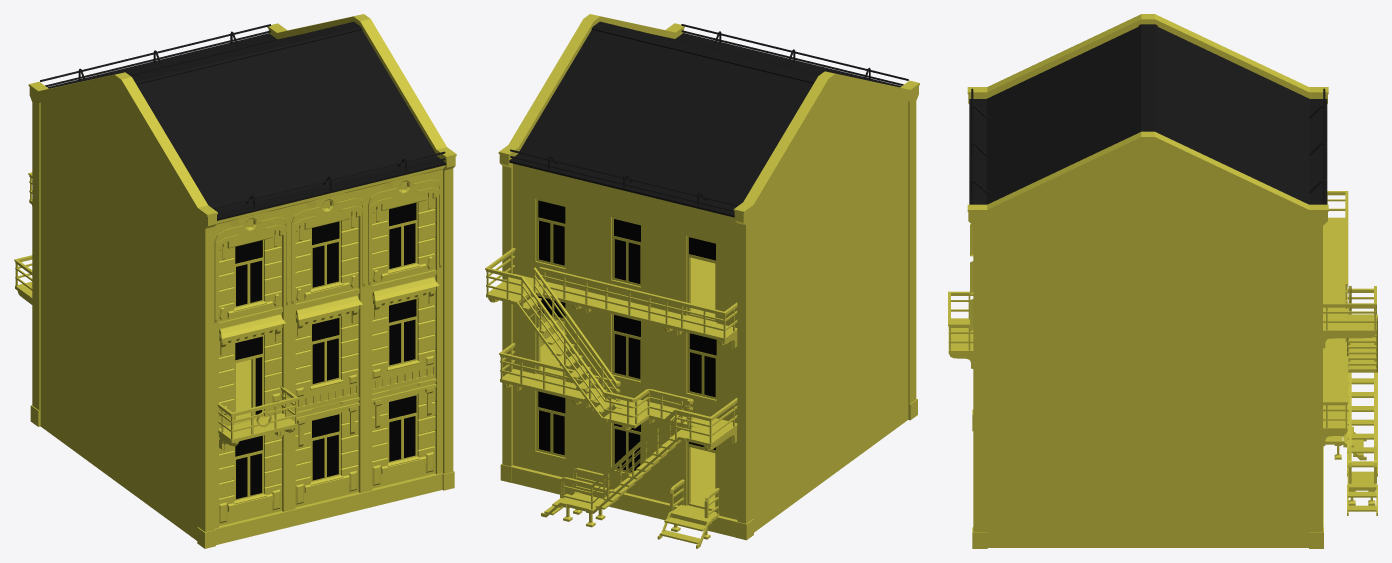
Rendered from SM_eighth_house.fbx.
3 renders of one model, left to right at view 1: azimuth 30°, elevation 25°; view 2: azimuth 150°, elevation 25°; view 3: azimuth 270°, elevation 25°, orthographic. The views are drawn at different scales.
Parts seen in each view (by area): view 1: Cylinder_3; view 2: Cylinder_3; view 3: Cylinder_3.
Part boxes in pixels (box(x1,y1,x2,y2)): Cylinder_3: box(14, 14, 456, 548); Cylinder_3: box(485, 14, 919, 548); Cylinder_3: box(948, 14, 1377, 548).
Size of the model in its own units: 814 by 1271 by 1201.
